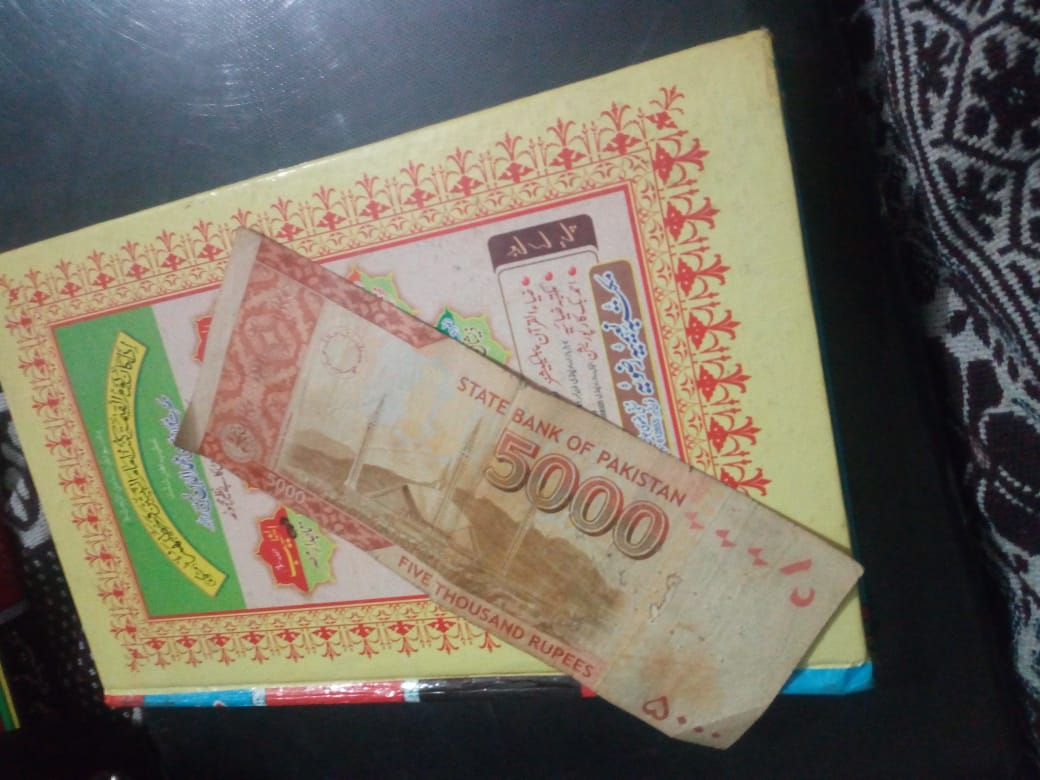5000 rupee: (186, 259, 825, 737)
